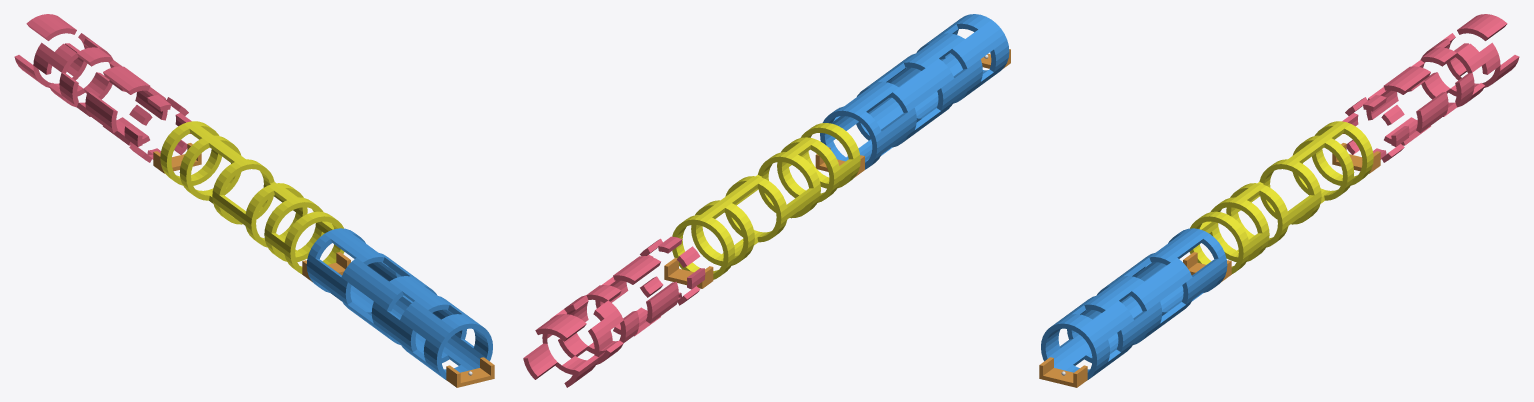
The model's file is RollingTunnel_ver2.fbx.
The picture shows the model from 3 angles, left to right: view 1: azimuth 30°, elevation 25°; view 2: azimuth 150°, elevation 25°; view 3: azimuth 330°, elevation 25°; orthographic projection.
Parts seen in each view (by area): view 1: Cylinder.003, Cylinder.004, Cylinder.005, Cube.003, Cube.002; view 2: Cylinder.003, Cylinder.004, Cylinder.005, Cube.002; view 3: Cylinder.003, Cylinder.004, Cylinder.005, Cube.003, Cube.002.
Boxes of the visible parts, left/top/right/bottom form: Cylinder.003: left=306, top=228, right=492, bottom=379; Cylinder.004: left=160, top=121, right=344, bottom=274; Cylinder.005: left=14, top=14, right=191, bottom=162; Cube.003: left=446, top=357, right=494, bottom=387; Cube.002: left=153, top=143, right=201, bottom=173; Cylinder.003: left=820, top=14, right=1009, bottom=169; Cylinder.004: left=672, top=123, right=860, bottom=279; Cylinder.005: left=523, top=236, right=705, bottom=387; Cube.002: left=664, top=257, right=713, bottom=288; Cylinder.003: left=1041, top=228, right=1227, bottom=379; Cylinder.004: left=1189, top=121, right=1373, bottom=274; Cylinder.005: left=1342, top=14, right=1519, bottom=162; Cube.003: left=1039, top=357, right=1087, bottom=387; Cube.002: left=1332, top=143, right=1380, bottom=173.
Bounding box in the file's own units: 3000 × 3000 × 40000.
